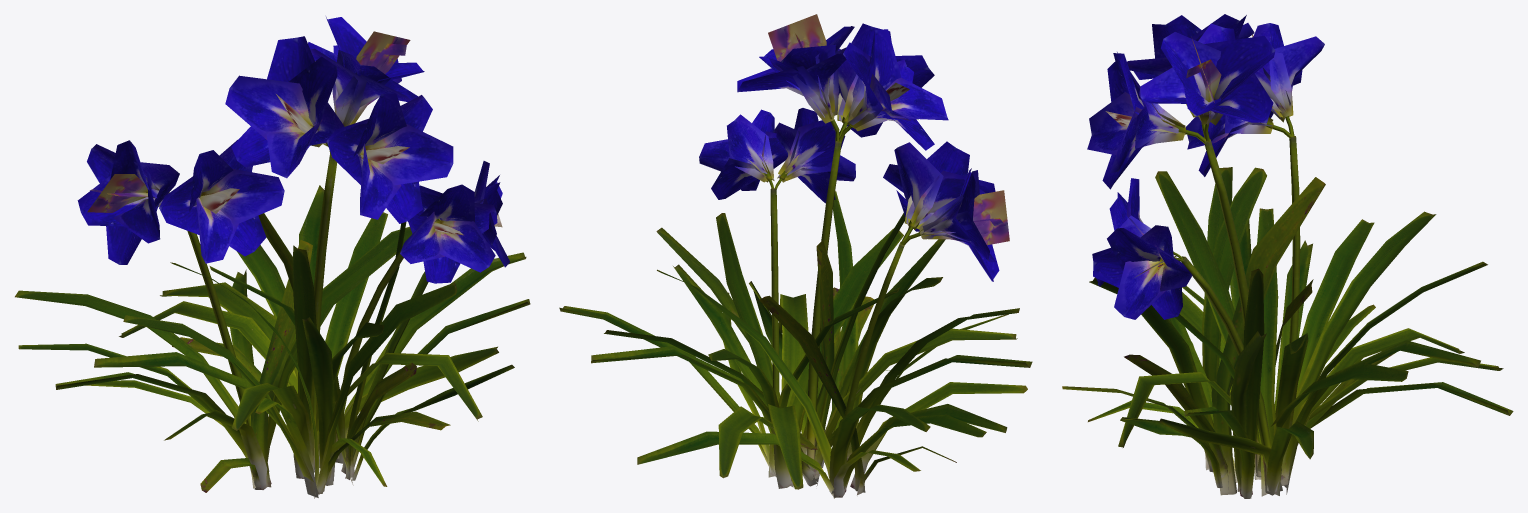
Rendered from Amaryllis_bush_normal_deepblue.glb.
3 renders of one model, left to right at view 1: azimuth 30°, elevation 25°; view 2: azimuth 150°, elevation 25°; view 3: azimuth 270°, elevation 25°, orthographic. The views are drawn at different scales.
Visible parts, largest first — view 1: bush; view 2: bush; view 3: bush.
Boxes of the visible parts, bbox=[...] form: bush: bbox=[15, 17, 530, 498]; bush: bbox=[559, 14, 1032, 498]; bush: bbox=[1062, 14, 1513, 498].
Bounding box in the file's own units: 2.94 × 2.74 × 2.41.
Materials: 1 (1 with a texture image).
